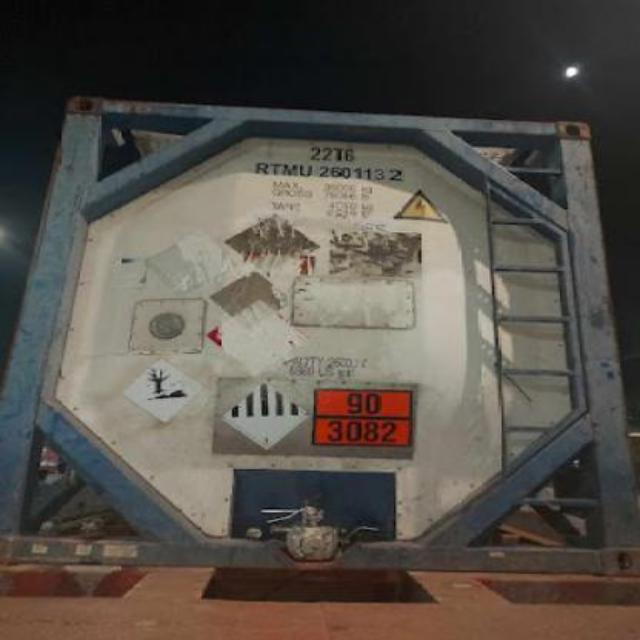0: (342, 166, 352, 178)
1: (364, 168, 374, 180), (354, 167, 362, 180)
2: (386, 170, 402, 182), (318, 166, 330, 178)
3: (376, 167, 384, 180)
6: (332, 166, 342, 178)
M: (282, 162, 298, 176)
R: (255, 160, 268, 176)
T: (270, 160, 282, 176)
U: (300, 164, 312, 176)
